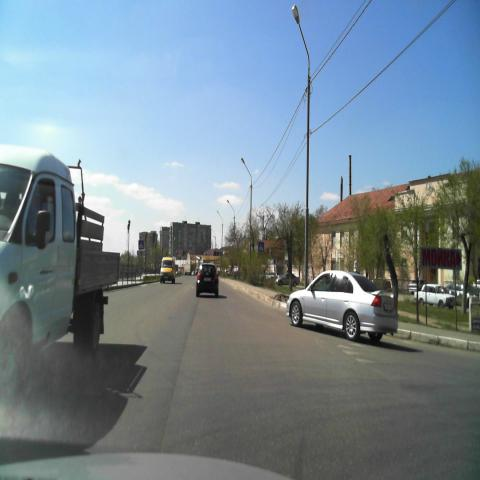5_19_1: (258, 240, 264, 252), (138, 240, 144, 249)
